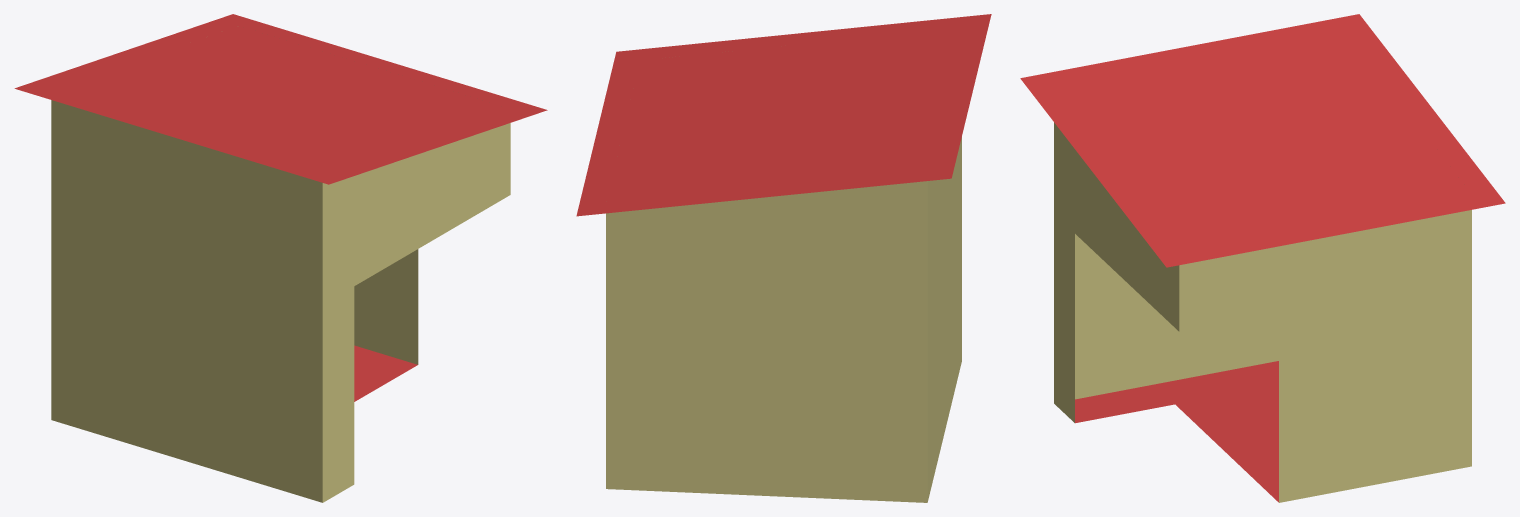
The picture shows the model from 3 angles, left to right: view 1: azimuth 30°, elevation 25°; view 2: azimuth 150°, elevation 25°; view 3: azimuth 270°, elevation 25°; orthographic projection. The views are drawn at different scales.
Bounding box in the file's own units: 14.04 × 14.24 × 10.34.
